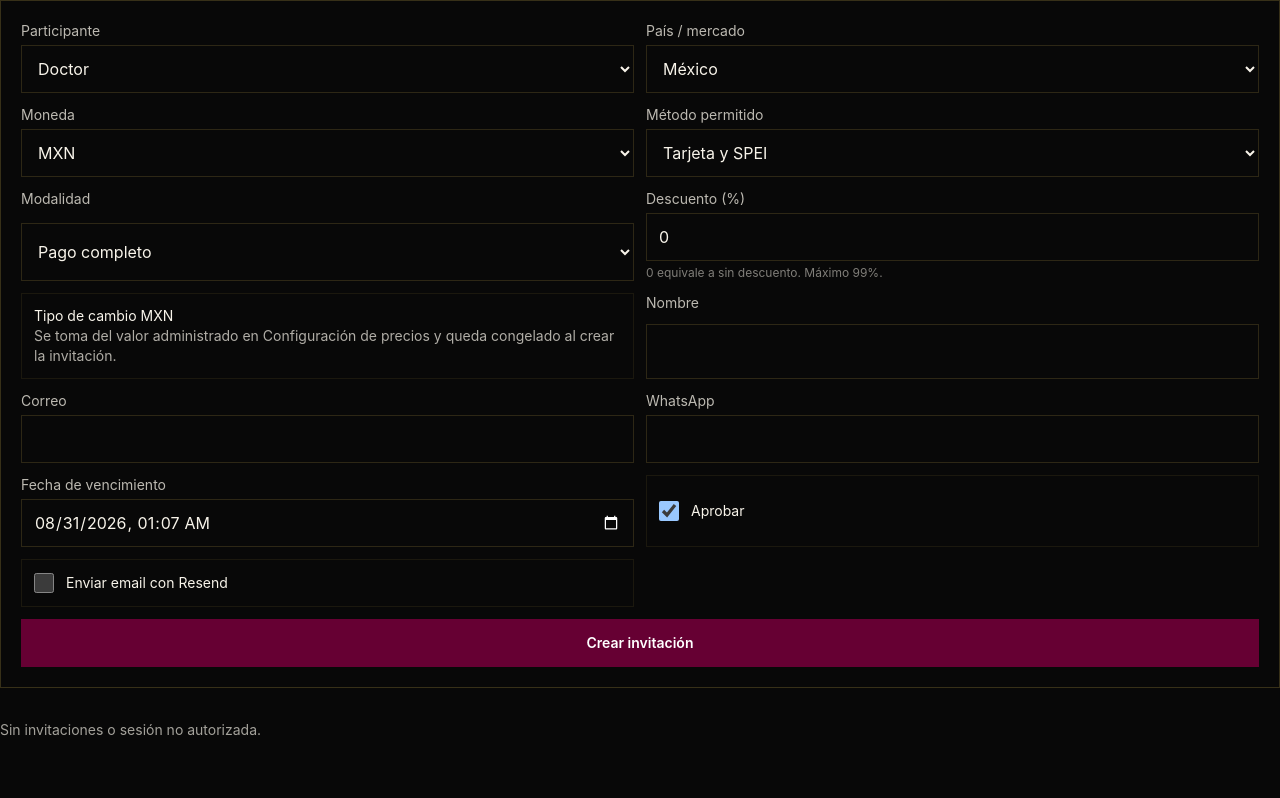
Scenario: admin components › crea invitación de pago completo desde submit
The width and height of the screenshot is (1280, 798).
Select "Paciente" in the dropdown labelled "Participante": (328,69) top-left (21, 45), bottom-right (634, 93)
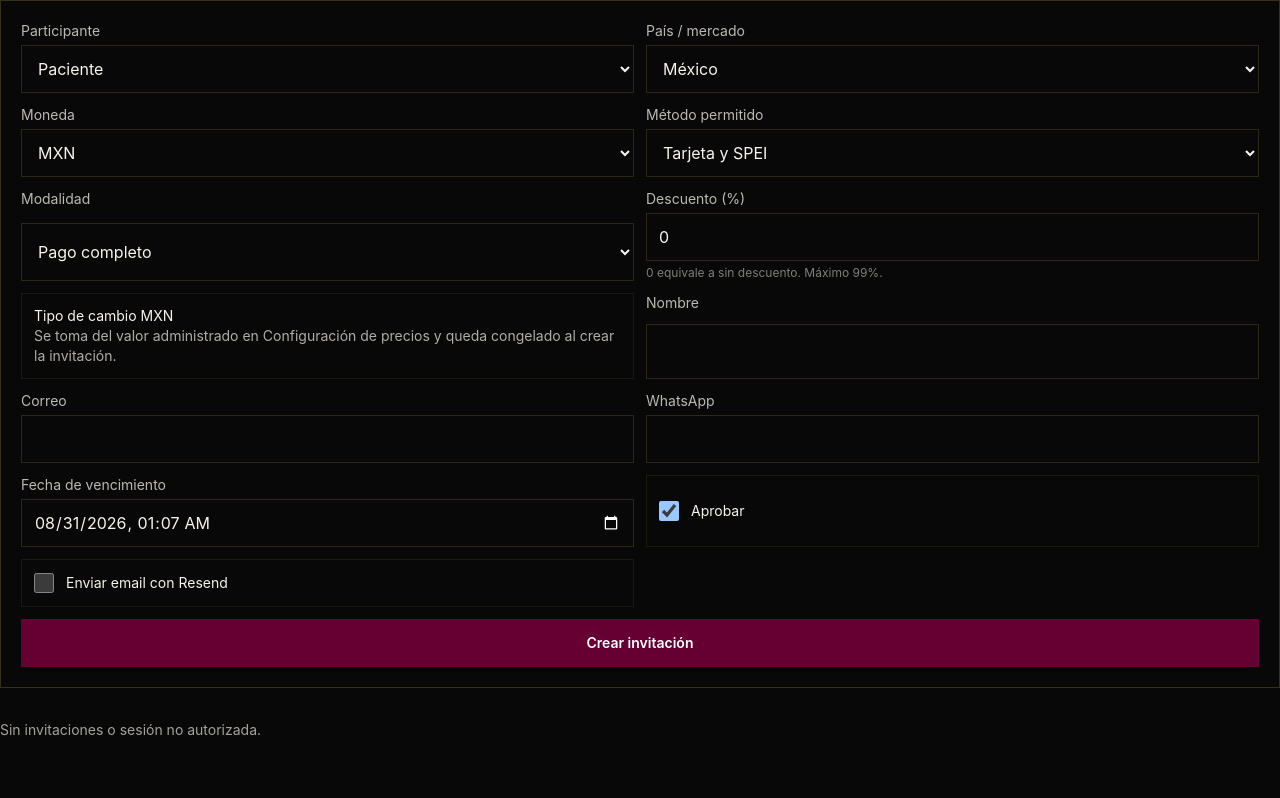
In the field labelled "Nombre": (952,352) top-left (646, 324), bottom-right (1259, 379), type "Dra Test"
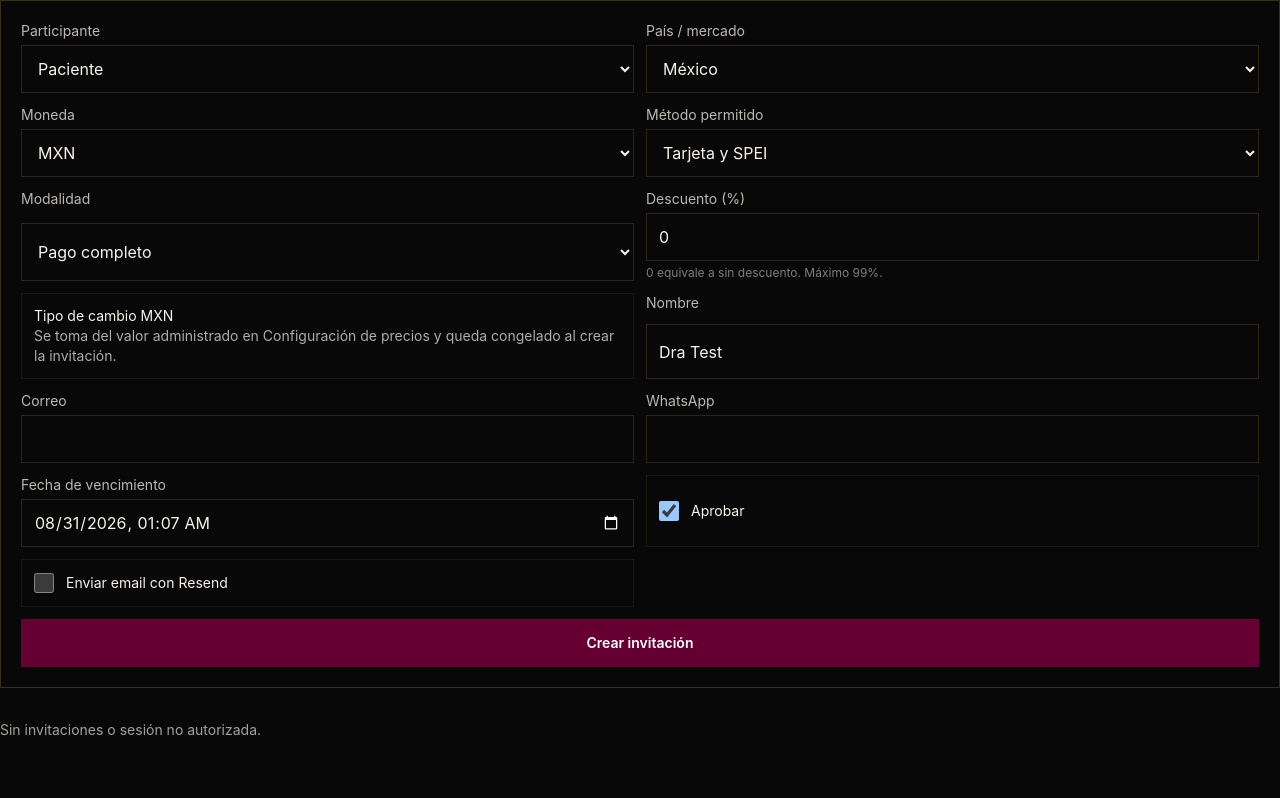
In the field labelled "Correo": (328,439) top-left (21, 415), bottom-right (634, 463), type "yoanna@example.com"
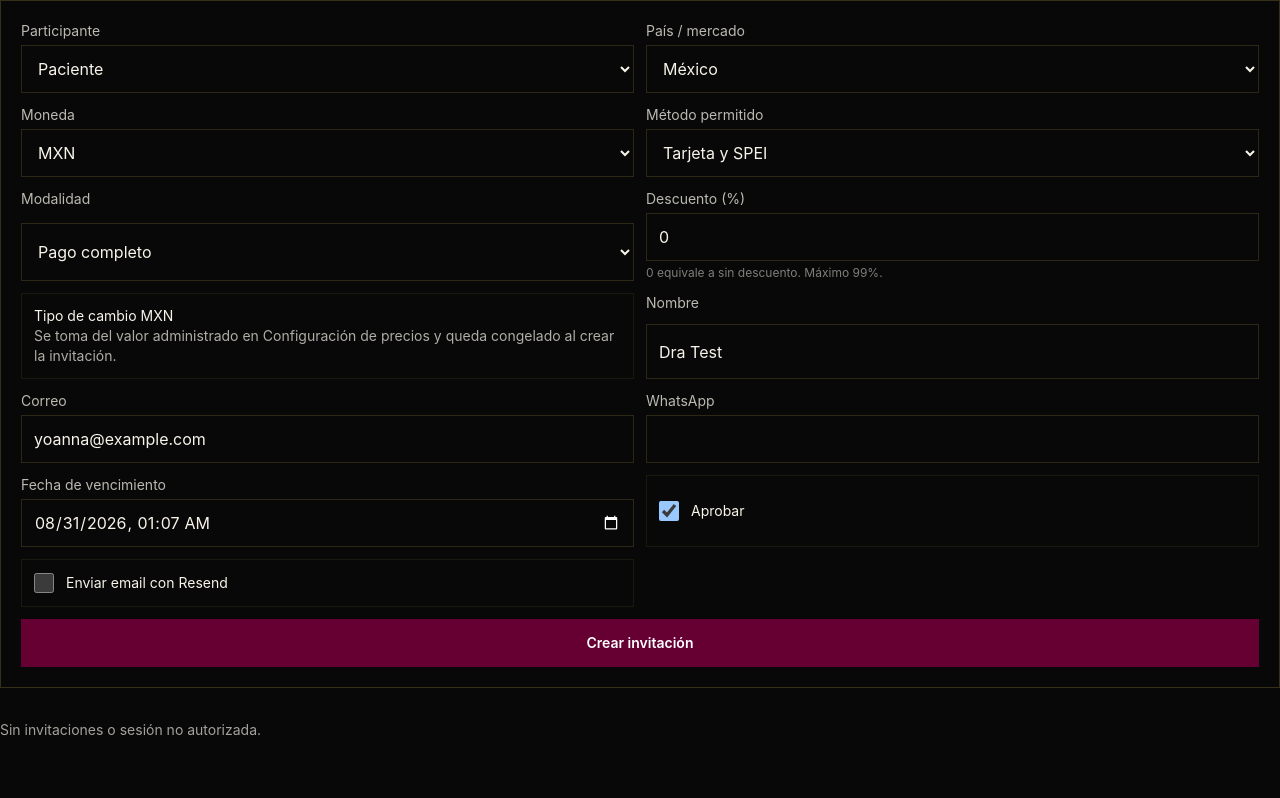
Click the button "Crear invitación": (640,643) top-left (21, 619), bottom-right (1259, 667)
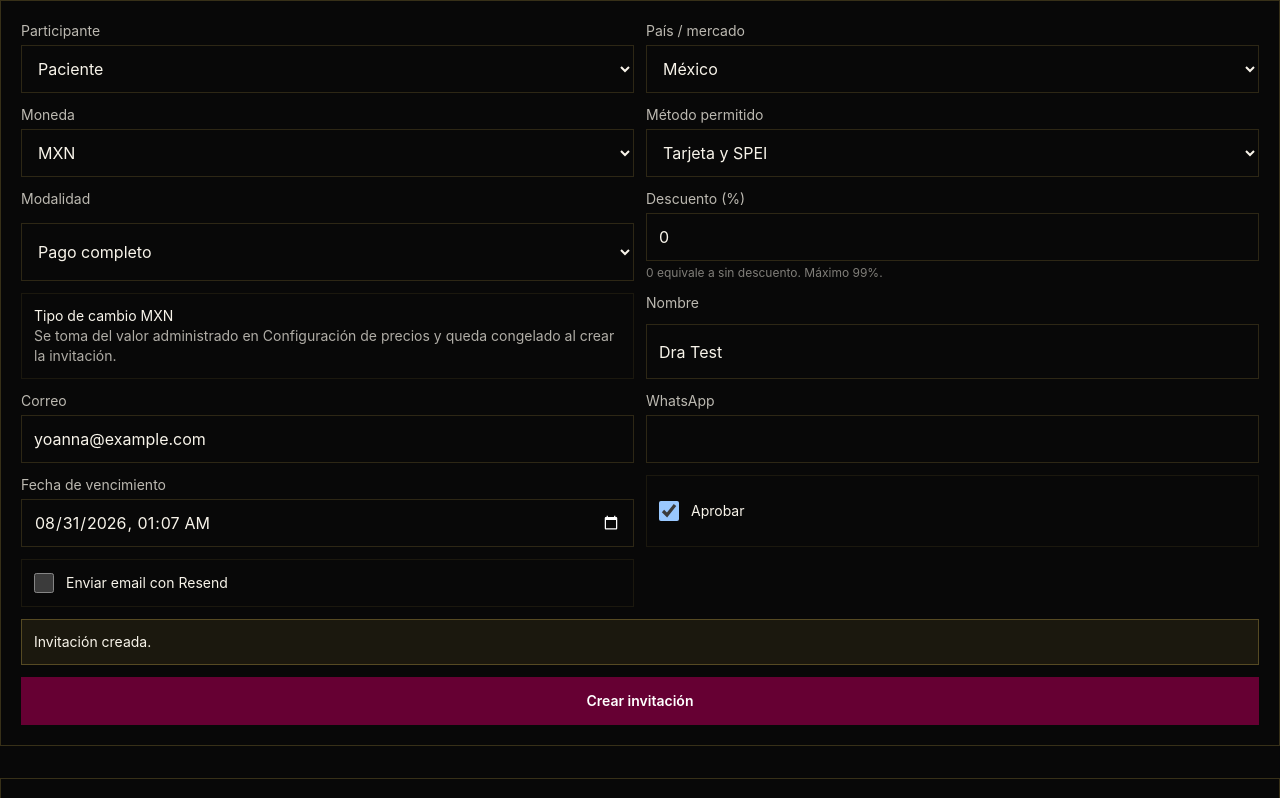
Expected: the text "Invitación creada." is shown, top-left (21, 619), bottom-right (1259, 665)
